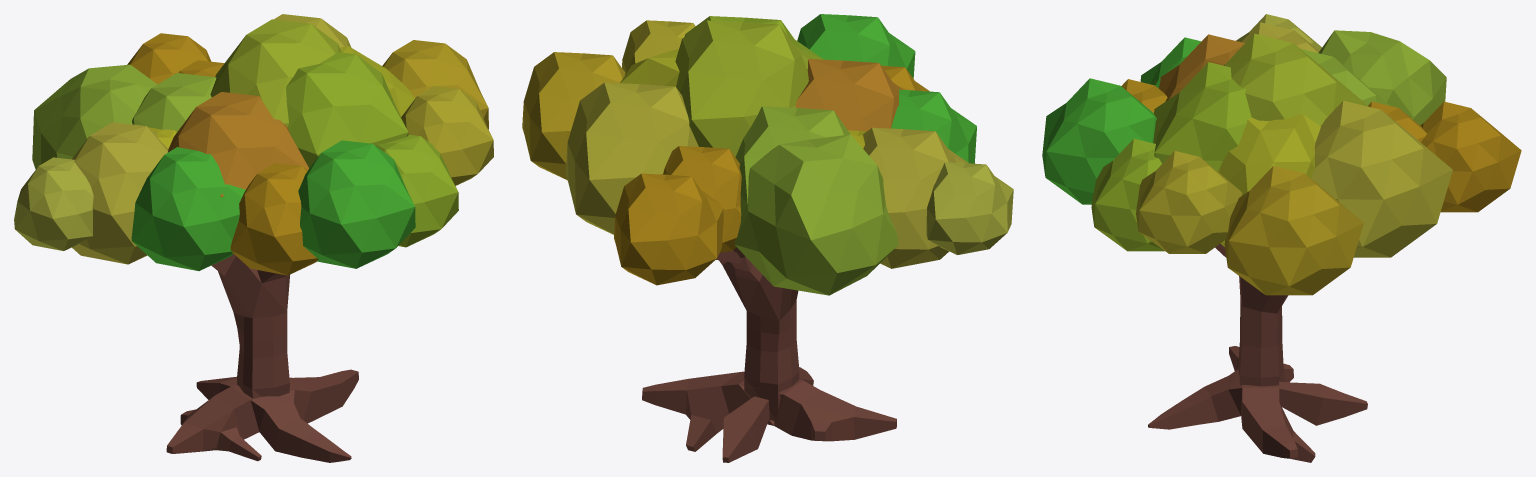
File: tree.obj
3 views of the same model, side by side, from view 1: azimuth 30°, elevation 25°; view 2: azimuth 150°, elevation 25°; view 3: azimuth 270°, elevation 25° (orthographic). The views are drawn at different scales.
Parts seen in each view (by area): view 1: Cube, Icosphere.007, Icosphere.015, Icosphere.005, Icosphere.012, Icosphere.004, Icosphere.013, Icosphere, Icosphere.017, Icosphere.001, Icosphere.008, Icosphere.014 (+6 smaller); view 2: Icosphere.013, Cube, Icosphere, Icosphere.009, Icosphere.011, Icosphere.012, Icosphere.006, Icosphere.001, Icosphere.004, Icosphere.007, Icosphere.003, Icosphere.016 (+5 smaller); view 3: Icosphere.009, Cube, Icosphere.006, Icosphere.007, Icosphere.008, Icosphere, Icosphere.011, Icosphere.005, Icosphere.013, Icosphere.010, Icosphere.014, Icosphere.004 (+6 smaller).
Boxes of the visible parts, bbox=[...] form: Cube: bbox=[166, 254, 358, 462]; Icosphere.007: bbox=[298, 140, 415, 268]; Icosphere.015: bbox=[131, 147, 245, 270]; Icosphere.005: bbox=[286, 52, 408, 167]; Icosphere.012: bbox=[72, 122, 168, 264]; Icosphere.004: bbox=[168, 92, 309, 197]; Icosphere.013: bbox=[32, 64, 157, 169]; Icosphere: bbox=[210, 19, 341, 127]; Icosphere.017: bbox=[230, 163, 318, 275]; Icosphere.001: bbox=[14, 157, 93, 250]; Icosphere.008: bbox=[401, 86, 493, 185]; Icosphere.014: bbox=[376, 134, 458, 247]; Icosphere.013: bbox=[734, 134, 898, 295]; Cube: bbox=[642, 247, 896, 462]; Icosphere: bbox=[675, 20, 814, 156]; Icosphere.009: bbox=[565, 82, 698, 234]; Icosphere.011: bbox=[614, 173, 723, 285]; Icosphere.012: bbox=[862, 127, 968, 268]; Icosphere.006: bbox=[522, 52, 625, 180]; Icosphere.001: bbox=[926, 162, 1013, 254]; Icosphere.004: bbox=[795, 59, 903, 131]; Icosphere.007: bbox=[797, 14, 915, 78]; Icosphere.003: bbox=[735, 106, 850, 220]; Icosphere.016: bbox=[663, 146, 741, 252]; Icosphere.009: bbox=[1311, 100, 1452, 257]; Cube: bbox=[1148, 243, 1367, 462]; Icosphere.006: bbox=[1224, 166, 1363, 295]; Icosphere.007: bbox=[1042, 78, 1156, 204]; Icosphere.008: bbox=[1136, 151, 1242, 253]; Icosphere: bbox=[1224, 33, 1366, 125]; Icosphere.011: bbox=[1420, 101, 1521, 212]; Icosphere.005: bbox=[1153, 62, 1251, 171]; Icosphere.013: bbox=[1318, 30, 1446, 124]; Icosphere.010: bbox=[1218, 113, 1320, 246]; Icosphere.014: bbox=[1091, 138, 1164, 251]; Icosphere.004: bbox=[1154, 34, 1244, 101].
Bounding box in the file's own units: 25.9 × 21.64 × 23.47.
